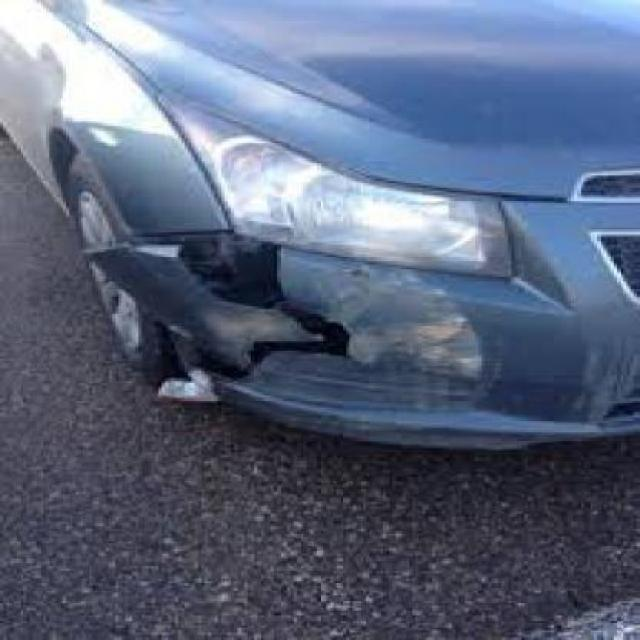damaged-front-bumper: (99, 230, 636, 450)
